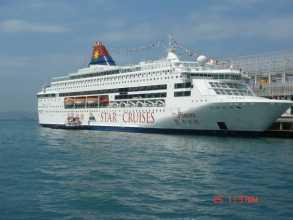youlun: (37, 37, 286, 132)
